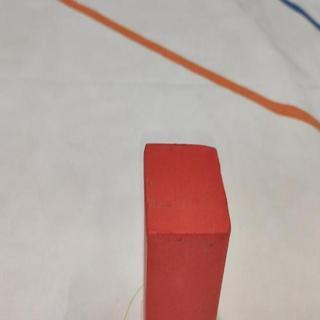redbox: (143, 141, 231, 320)
